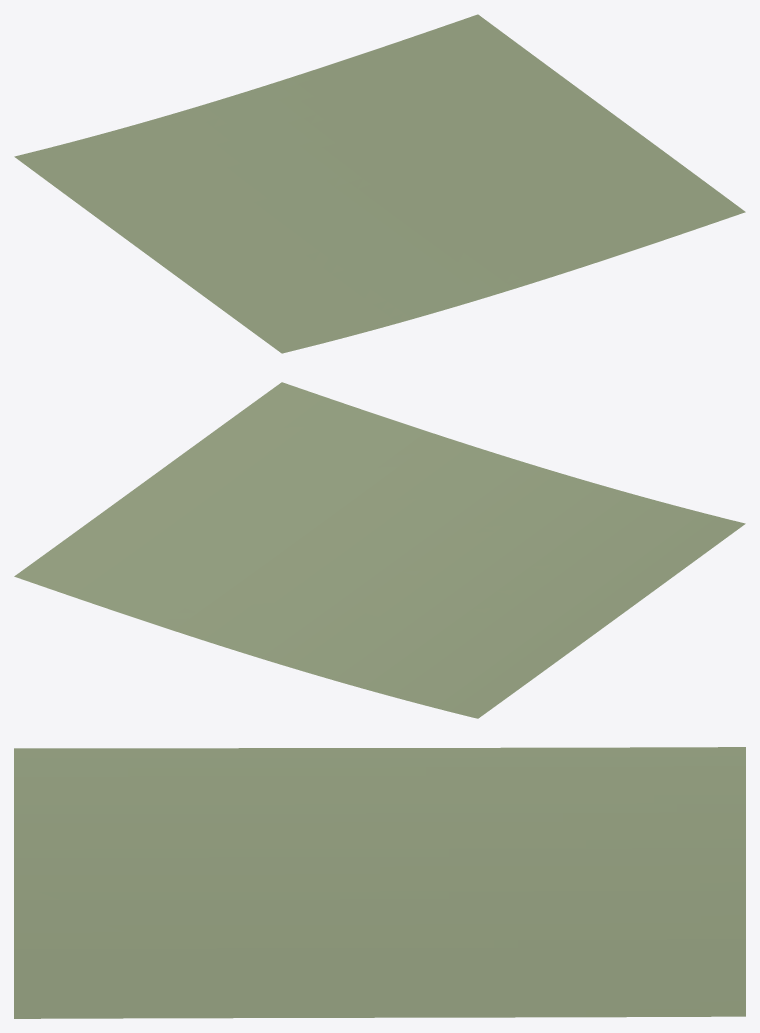
Rendered from valley-0-5.glb.
The picture shows the model from 3 angles, top to bottom: view 1: azimuth 30°, elevation 25°; view 2: azimuth 150°, elevation 25°; view 3: azimuth 270°, elevation 25°; orthographic projection. The views are drawn at different scales.
Visible parts, largest first — view 1: valley-0-5; view 2: valley-0-5; view 3: valley-0-5.
Boxes of the visible parts, left/top/right/bottom form: valley-0-5: left=14, top=14, right=745, bottom=353; valley-0-5: left=14, top=382, right=745, bottom=718; valley-0-5: left=14, top=747, right=745, bottom=1018.
Size of the model in its own units: 256 by 15.8 by 256.
